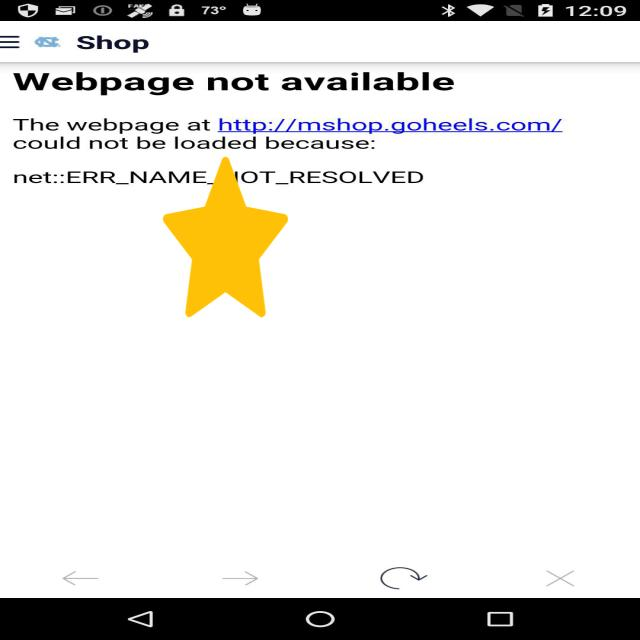forced continuity: (163, 157, 288, 317)
